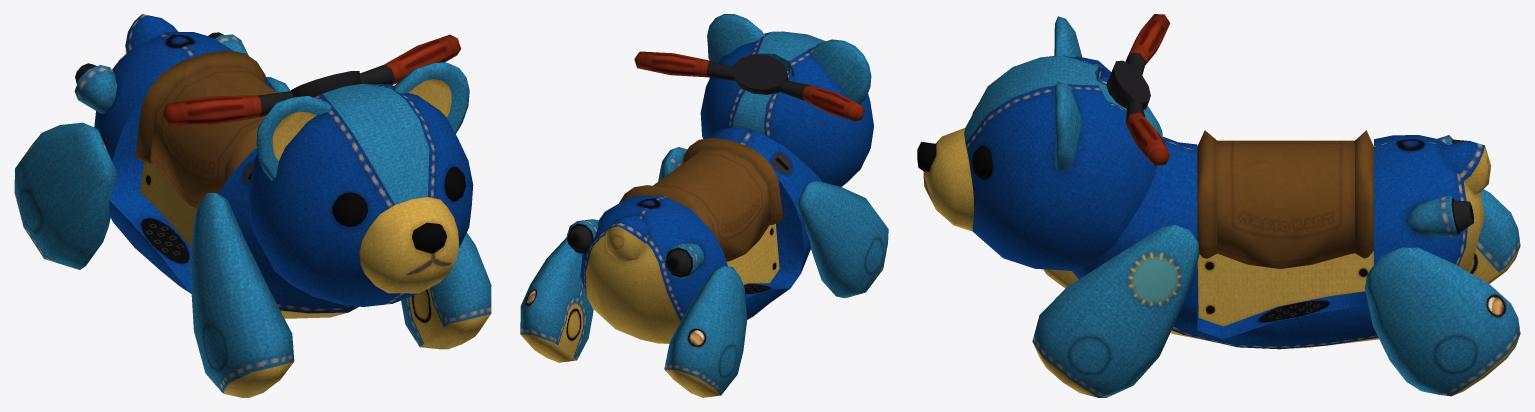
File: teddy_buggy.glb
3 views of the same model, side by side, from view 1: azimuth 30°, elevation 25°; view 2: azimuth 150°, elevation 25°; view 3: azimuth 270°, elevation 25° (orthographic). The views are drawn at different scales.
Parts seen in each view (by area): view 1: Jnt_Body__m_Body, Jnt_PartsR__m_Body, Jnt_PartsL__m_Body, Jnt_Handle__m_Body, Jnt_Body__m_Light; view 2: Jnt_Body__m_Body, Jnt_PartsR__m_Body, Jnt_PartsL__m_Body, Jnt_Handle__m_Body; view 3: Jnt_Body__m_Body, Jnt_PartsL__m_Body, Jnt_Handle__m_Body, Jnt_PartsR__m_Body, Jnt_Body__m_Light.
Part boxes in pixels (<box>): Jnt_Body__m_Body: <box>74,14,473,318</box>; Jnt_PartsR__m_Body: <box>14,122,294,397</box>; Jnt_PartsL__m_Body: <box>266,77,491,349</box>; Jnt_Handle__m_Body: <box>162,34,460,125</box>; Jnt_Body__m_Light: <box>332,166,465,226</box>; Jnt_Body__m_Body: <box>566,14,873,343</box>; Jnt_PartsR__m_Body: <box>664,180,888,397</box>; Jnt_PartsL__m_Body: <box>520,147,687,362</box>; Jnt_Handle__m_Body: <box>634,51,864,121</box>; Jnt_Body__m_Body: <box>917,16,1490,349</box>; Jnt_PartsL__m_Body: <box>1032,225,1520,397</box>; Jnt_Handle__m_Body: <box>1106,14,1170,166</box>; Jnt_PartsR__m_Body: <box>1043,189,1520,288</box>; Jnt_Body__m_Light: <box>972,105,992,179</box>.
Size of the model in its own units: 9.47 by 9.47 by 17.37.
2 materials, 2 textured.
